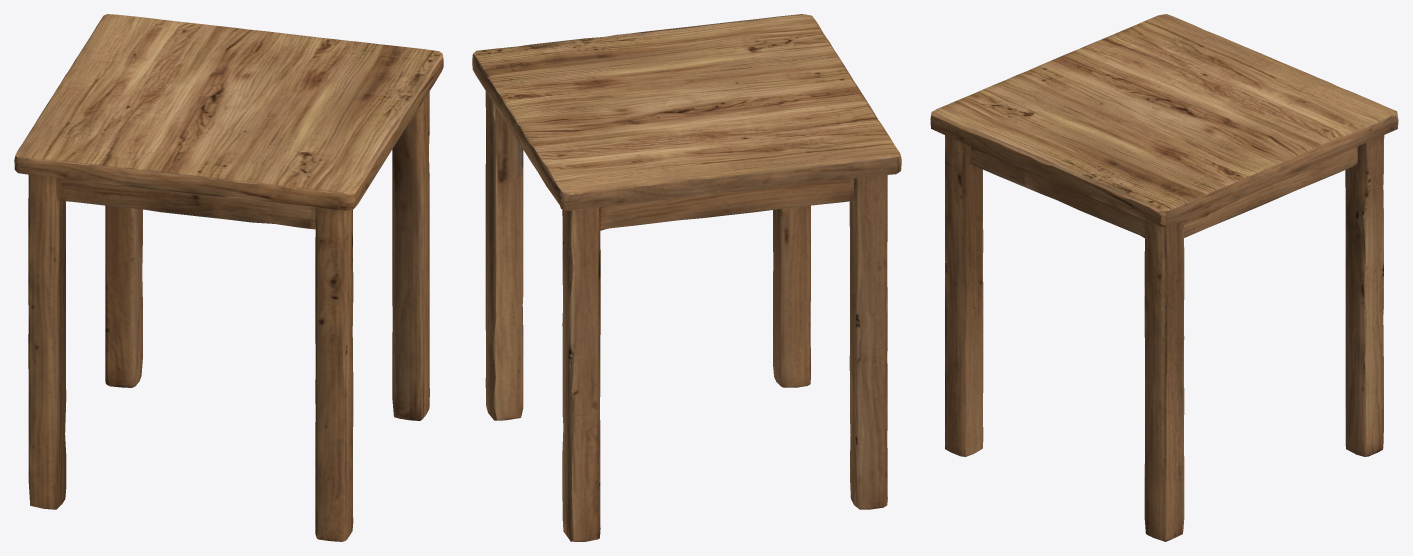
File: mundane_side_table.glb
3 views of the same model, side by side, from view 1: azimuth 30°, elevation 25°; view 2: azimuth 150°, elevation 25°; view 3: azimuth 270°, elevation 25° (orthographic). The views are drawn at different scales.
Parts seen in each view (by area): view 1: geometry_0; view 2: geometry_0; view 3: geometry_0.
Boxes of the visible parts, x1,y1,x2,y2 form: geometry_0: (14,14,443,541); geometry_0: (472,14,901,541); geometry_0: (930,14,1398,541).
Bounding box in the file's own units: 0.6 × 0.4797 × 0.5994.
1 material, 1 textured.
